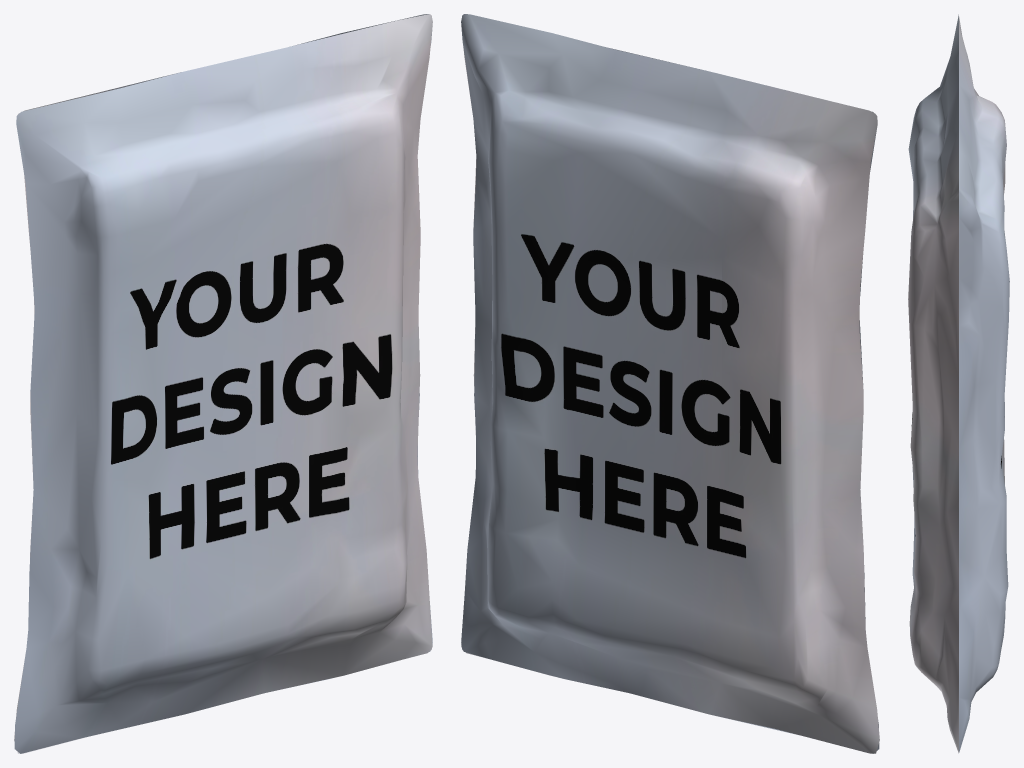
File: pack.glb
3 views of the same model, side by side, from view 1: azimuth 30°, elevation 25°; view 2: azimuth 150°, elevation 25°; view 3: azimuth 270°, elevation 25° (orthographic). The views are drawn at different scales.
Parts seen in each view (by area): view 1: FRONT; view 2: FRONT; view 3: FRONT.
Boxes of the visible parts, x1,y1,x2,y2 form: FRONT: [14, 14, 432, 753]; FRONT: [461, 14, 879, 753]; FRONT: [908, 14, 1009, 753].
Size of what is drawn, in the model's own units: 3.41 by 5.01 by 0.8141.
Materials: 3 (2 with a texture image).
